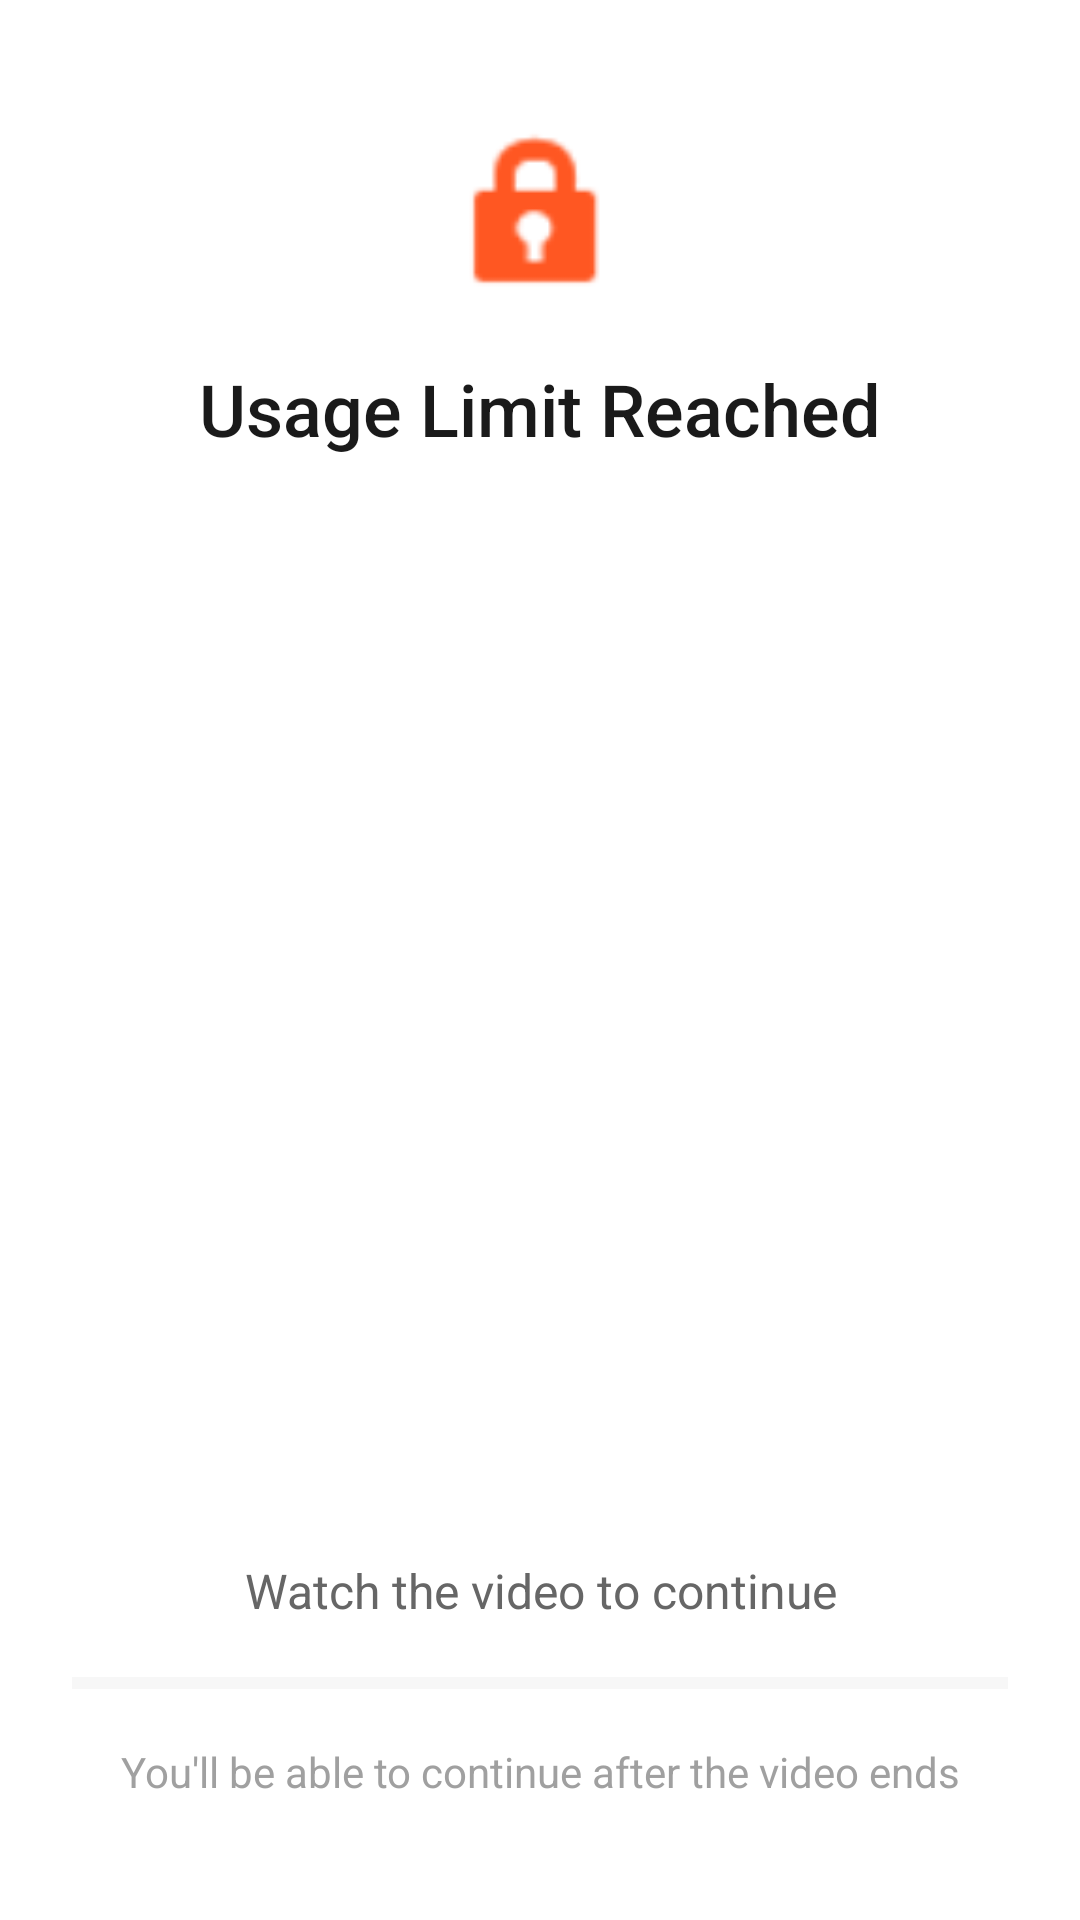

Screen size 1080 × 1920. Icon name, then its center in pixels as (x,y):
lock idle: (535,210)
